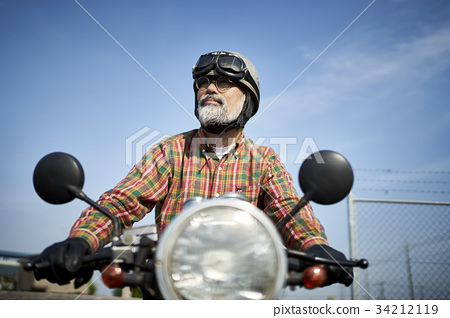helmet: (197, 46, 257, 114)
